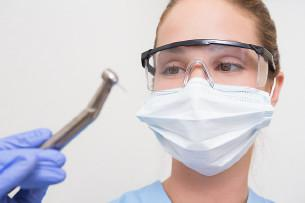OK: (138, 36, 275, 173)
